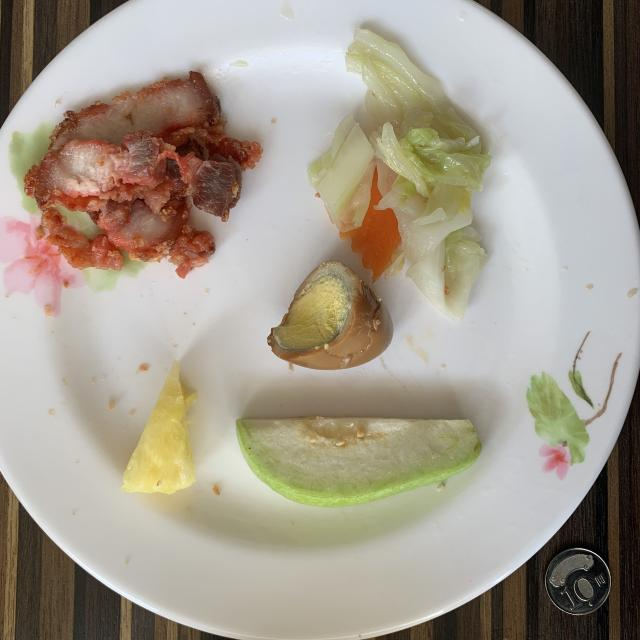cabbage: (309, 30, 491, 320)
coin: (545, 548, 611, 615)
guava -sliced-: (236, 418, 481, 506)
pineapple: (120, 360, 198, 494)
red grilled pork: (25, 72, 262, 278)
soy egg: (268, 261, 392, 370)
